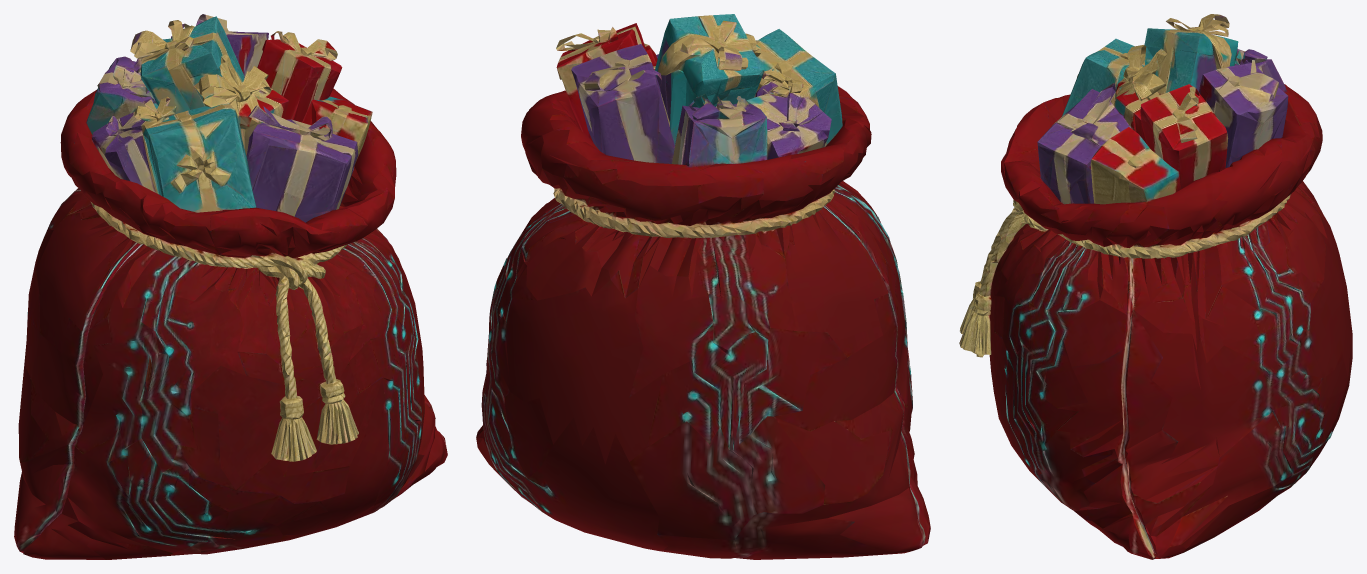
Rendered from sack.glb.
3 renders of one model, left to right at view 1: azimuth 30°, elevation 25°; view 2: azimuth 150°, elevation 25°; view 3: azimuth 270°, elevation 25°, orthographic. The views are drawn at different scales.
Visible parts, largest first — view 1: Mesh_0; view 2: Mesh_0; view 3: Mesh_0.
Part boxes in pixels (x1,y1,x2,y2): Mesh_0: [14, 14, 447, 559]; Mesh_0: [476, 14, 930, 559]; Mesh_0: [959, 14, 1352, 559].
Size of the model in its own units: 1.78 by 1.9 by 1.55.
Materials: 1 (1 with a texture image).
